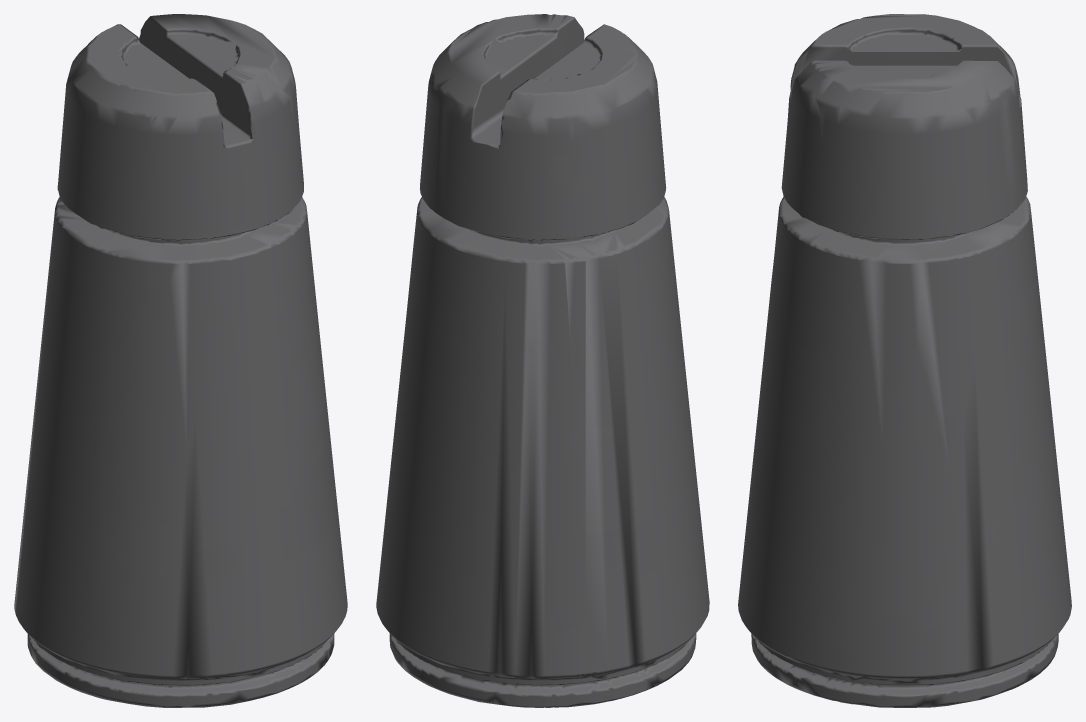
File: rook-black.glb
3 renders of one model, left to right at view 1: azimuth 30°, elevation 25°; view 2: azimuth 150°, elevation 25°; view 3: azimuth 270°, elevation 25°, orthographic.
Visible parts, largest first — view 1: 05_vez_cerna; view 2: 05_vez_cerna; view 3: 05_vez_cerna.
Boxes of the visible parts, x1,y1,x2,y2 form: 05_vez_cerna: (14,14,347,707); 05_vez_cerna: (376,14,709,707); 05_vez_cerna: (738,14,1071,707).
Size of the model in its own units: 0.5928 by 1.16 by 0.5931.
1 material, 1 textured.
